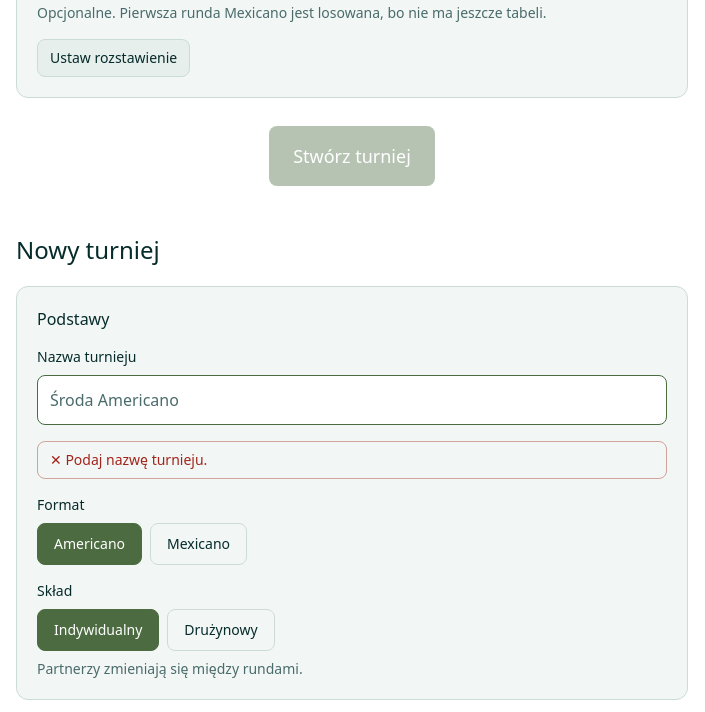
Test: create form › offers the mixed rounds for Mexicano only
The image size is (705, 712).
(page scrolled)
Click the radio button labelled "Mexicano": (198, 544) [150,523,247,565]
(page scrolled)
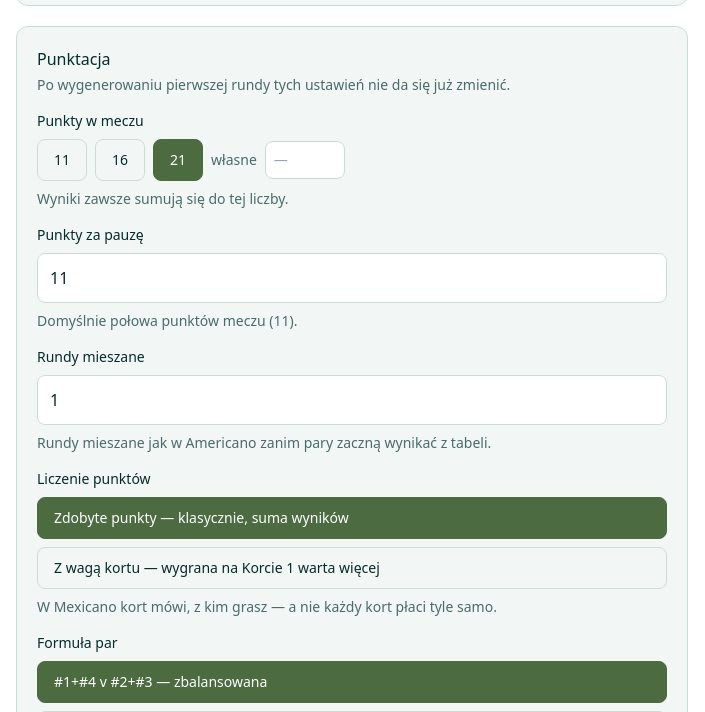
Now the number field with id "openingRounds" holds "1", box [37,375,667,425]
